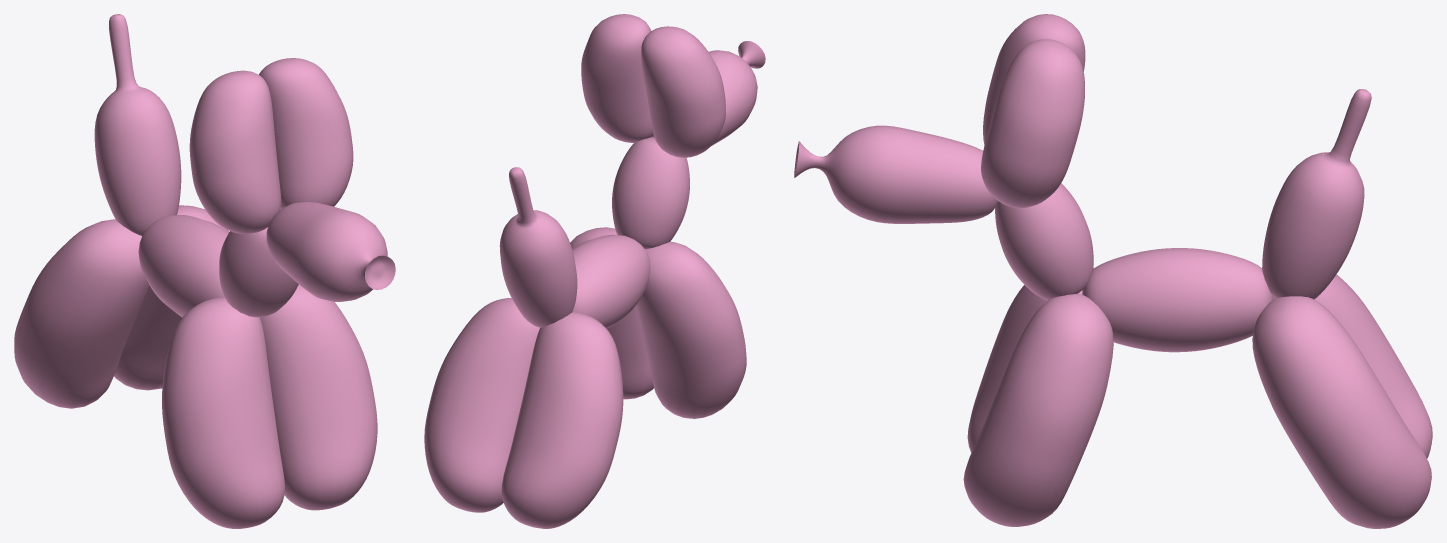
File: balloon dog easter egg.fbx
3 renders of one model, left to right at view 1: azimuth 30°, elevation 25°; view 2: azimuth 150°, elevation 25°; view 3: azimuth 270°, elevation 25°, orthographic. The views are drawn at different scales.
Visible parts, largest first — view 1: pasted__pasted__pasted__pSphere1 (×2), pasted__pasted__pSphere1, pSphere1, pasted__pasted__pasted__pasted__pSphere1, pasted__pasted__pasted__pSphere2, pasted__pasted__pasted__pasted__pSphere2, pSphere2, pasted__pSphere2, pasted__pSphere1; view 2: pasted__pasted__pasted__pSphere1 (×2), pSphere1, pasted__pSphere1, pasted__pasted__pasted__pasted__pSphere1, pasted__pasted__pasted__pSphere2, pasted__pSphere2, pSphere2, pasted__pasted__pasted__pasted__pSphere2, pasted__pasted__pSphere1; view 3: pasted__pSphere1, pasted__pasted__pSphere1, pasted__pasted__pasted__pSphere1 (×2), pSphere2, pasted__pasted__pasted__pasted__pSphere2, pasted__pasted__pasted__pSphere2, pasted__pSphere2, pSphere1, pasted__pasted__pasted__pasted__pSphere1.
Boxes of the visible parts, bbox=[...] form: pasted__pasted__pasted__pSphere1 (×2): bbox=[162, 58, 353, 528]; pasted__pasted__pSphere1: bbox=[259, 284, 377, 510]; pSphere1: bbox=[14, 219, 149, 408]; pasted__pasted__pasted__pasted__pSphere1: bbox=[189, 70, 281, 233]; pasted__pasted__pasted__pSphere2: bbox=[94, 14, 181, 235]; pasted__pasted__pasted__pasted__pSphere2: bbox=[266, 202, 395, 301]; pSphere2: bbox=[138, 215, 228, 317]; pasted__pSphere2: bbox=[219, 209, 298, 317]; pasted__pSphere1: bbox=[114, 205, 228, 390]; pasted__pasted__pasted__pSphere1 (×2): bbox=[581, 14, 746, 418]; pSphere1: bbox=[501, 312, 623, 528]; pasted__pSphere1: bbox=[424, 298, 539, 512]; pasted__pasted__pasted__pasted__pSphere1: bbox=[641, 26, 725, 157]; pasted__pasted__pasted__pSphere2: bbox=[499, 167, 577, 327]; pasted__pSphere2: bbox=[612, 137, 689, 248]; pSphere2: bbox=[572, 234, 650, 328]; pasted__pasted__pasted__pasted__pSphere2: bbox=[652, 41, 765, 145]; pasted__pasted__pSphere1: bbox=[570, 227, 653, 399]; pasted__pSphere1: bbox=[1252, 296, 1431, 528]; pasted__pasted__pSphere1: bbox=[963, 293, 1113, 526]; pasted__pasted__pasted__pSphere1 (×2): bbox=[967, 39, 1093, 452]; pSphere2: bbox=[1082, 248, 1273, 352]; pasted__pasted__pasted__pasted__pSphere2: bbox=[794, 125, 998, 223]; pasted__pasted__pasted__pSphere2: bbox=[1262, 89, 1371, 299]; pasted__pSphere2: bbox=[995, 183, 1093, 300]; pSphere1: bbox=[1273, 274, 1432, 458]; pasted__pasted__pasted__pasted__pSphere1: bbox=[983, 14, 1085, 144].
Bounding box in the file's own units: 7.09 × 14.87 × 18.18.
